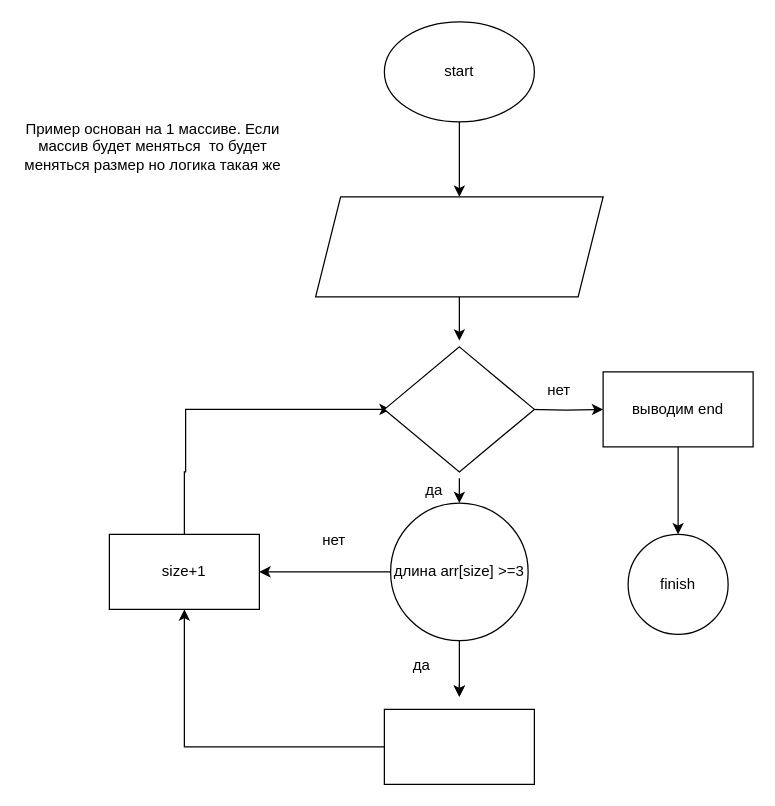
Some shapes in this 775 by 806 pixel diagram are drawn without their labels. The shapes that lost their labels are listed below. From the top down, each one's box as (x1, y1, x2, y2) in pixels, then its label:
(314, 196, 603, 297): start = 0 arr = [“Hello”, “2”, “world”, “:-)”] end =[]
(383, 346, 534, 472): size < длине arr
(383, 708, 534, 784): end+= arr[size]
